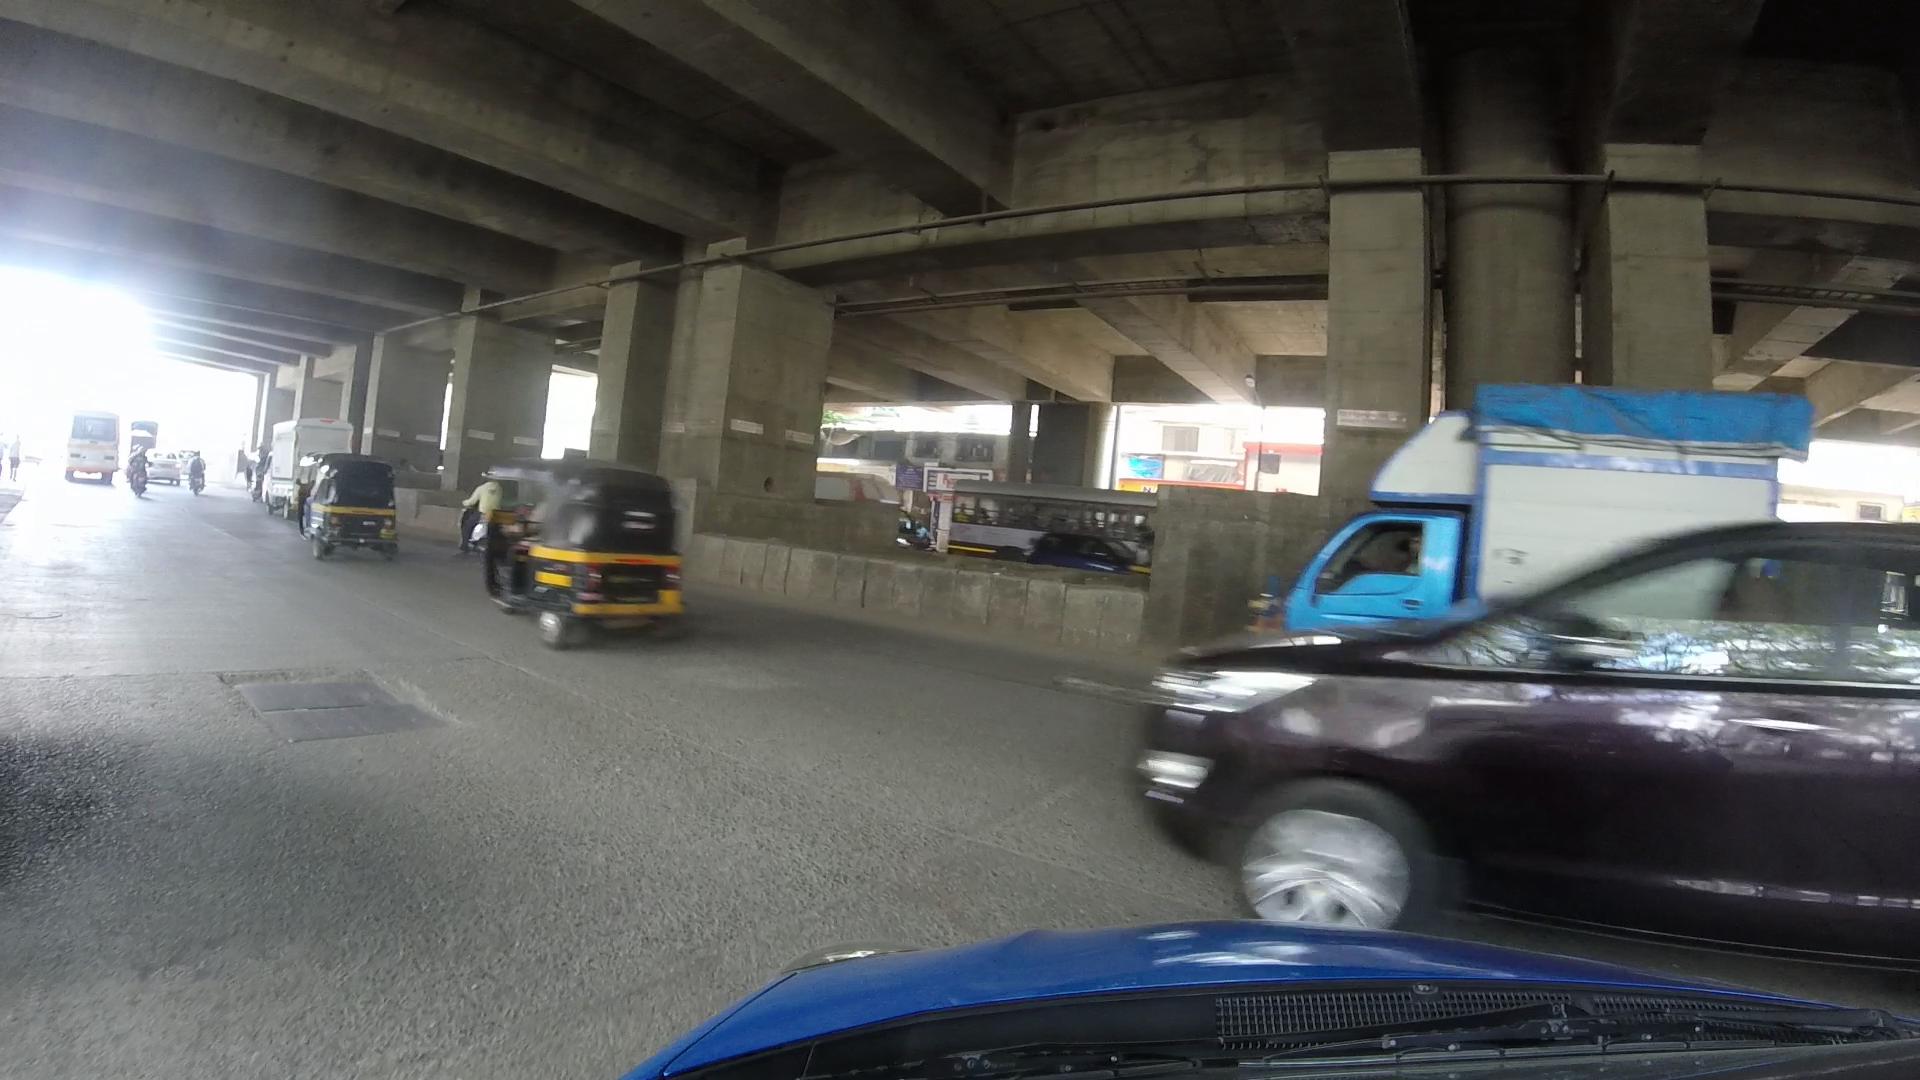car: (1131, 510, 1920, 932)
rickshaw: (469, 460, 673, 647), (293, 448, 411, 568)
truck: (1296, 380, 1799, 651)
